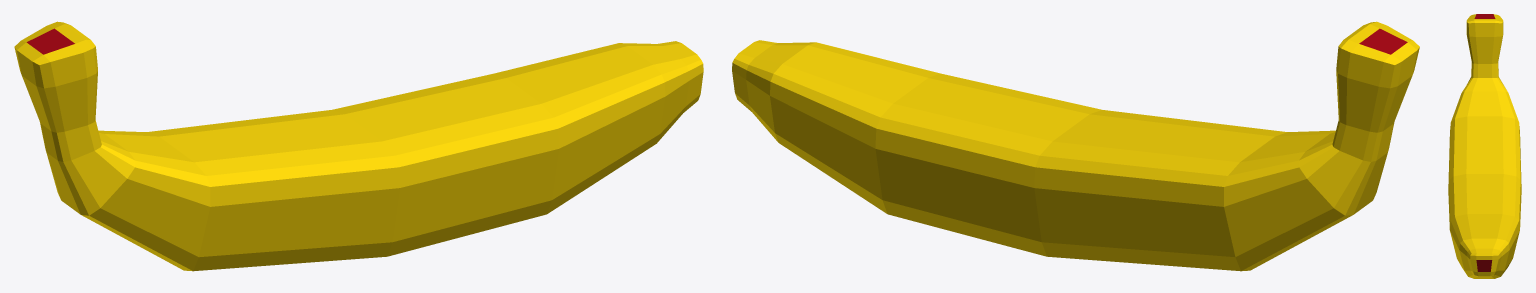
File: Banane.fbx
3 views of the same model, side by side, from view 1: azimuth 30°, elevation 25°; view 2: azimuth 150°, elevation 25°; view 3: azimuth 270°, elevation 25° (orthographic). The views are drawn at different scales.
Parts seen in each view (by area): view 1: Banane; view 2: Banane; view 3: Banane.
Part boxes in pixels (box(x1,y1,x2,y2)): Banane: box(14, 21, 703, 271); Banane: box(732, 21, 1419, 271); Banane: box(1448, 14, 1521, 278).
Bounding box in the file's own units: 1070 × 435 × 204.
